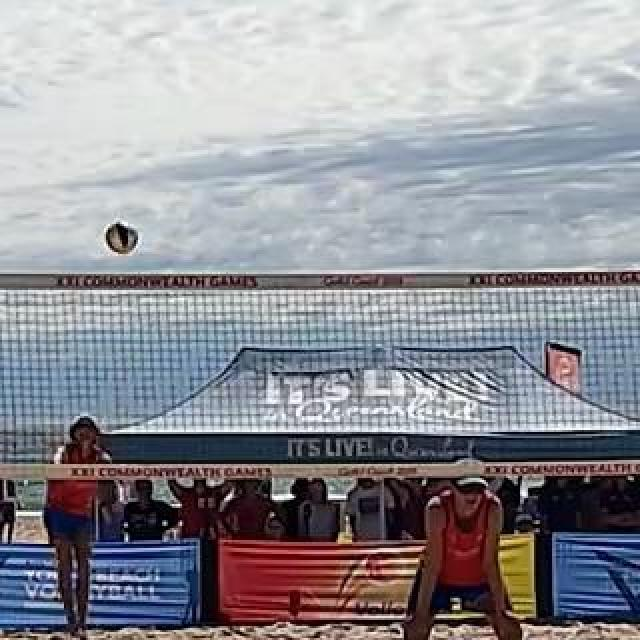volleyball: (104, 222, 140, 254)
